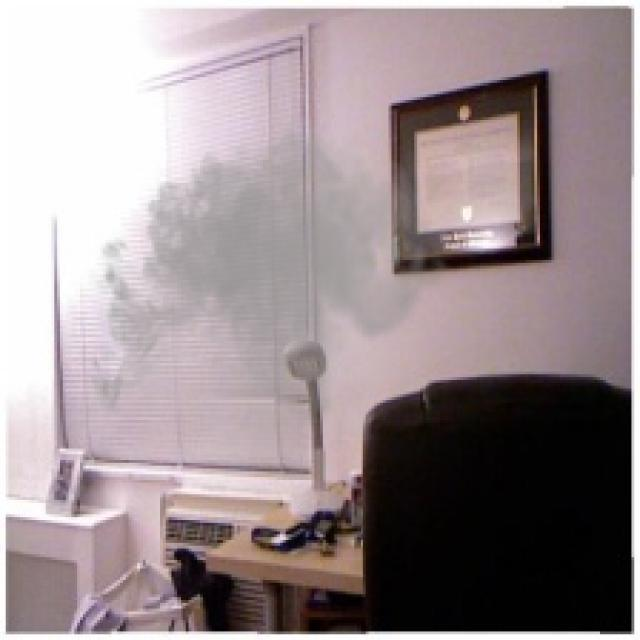Smoke: (77, 102, 452, 478)
